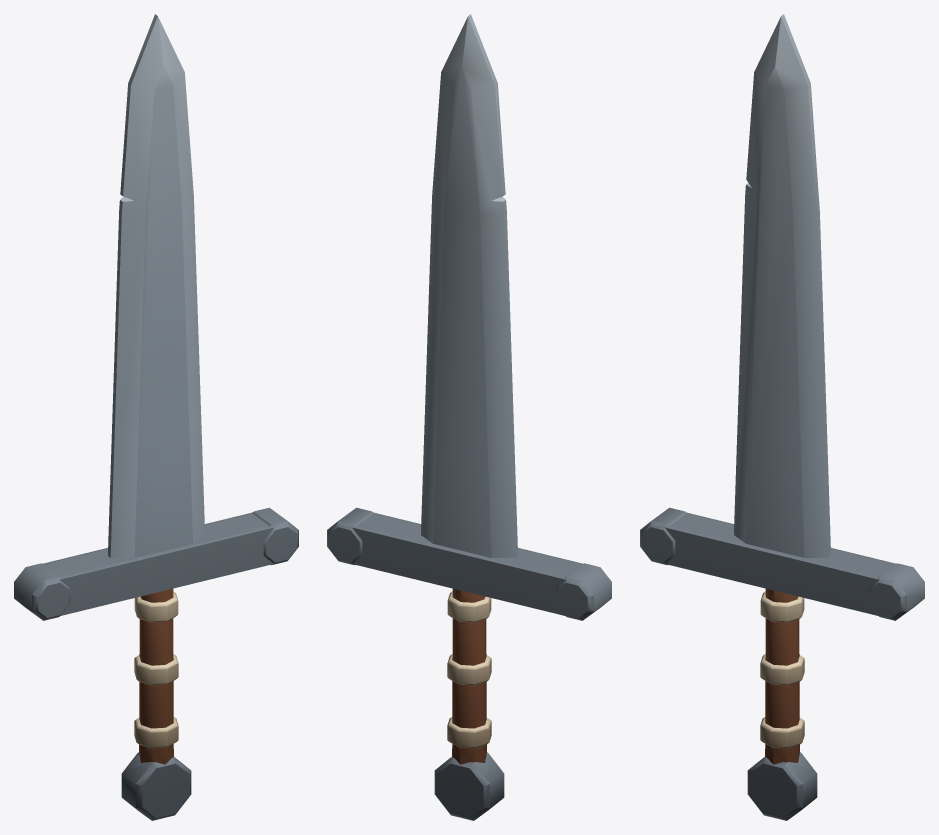
Rendered from greatsword_steel.glb.
3 renders of one model, left to right at view 1: azimuth 30°, elevation 25°; view 2: azimuth 150°, elevation 25°; view 3: azimuth 330°, elevation 25°, orthographic.
Visible parts, largest first — view 1: Item; view 2: Item; view 3: Item.
Boxes of the visible parts, bbox=[...] form: Item: bbox=[14, 14, 298, 820]; Item: bbox=[327, 14, 611, 820]; Item: bbox=[640, 14, 924, 820].
Size of the model in its own units: 0.8893 by 2.54 by 0.1333.
Materials: 2 (2 with a texture image).
